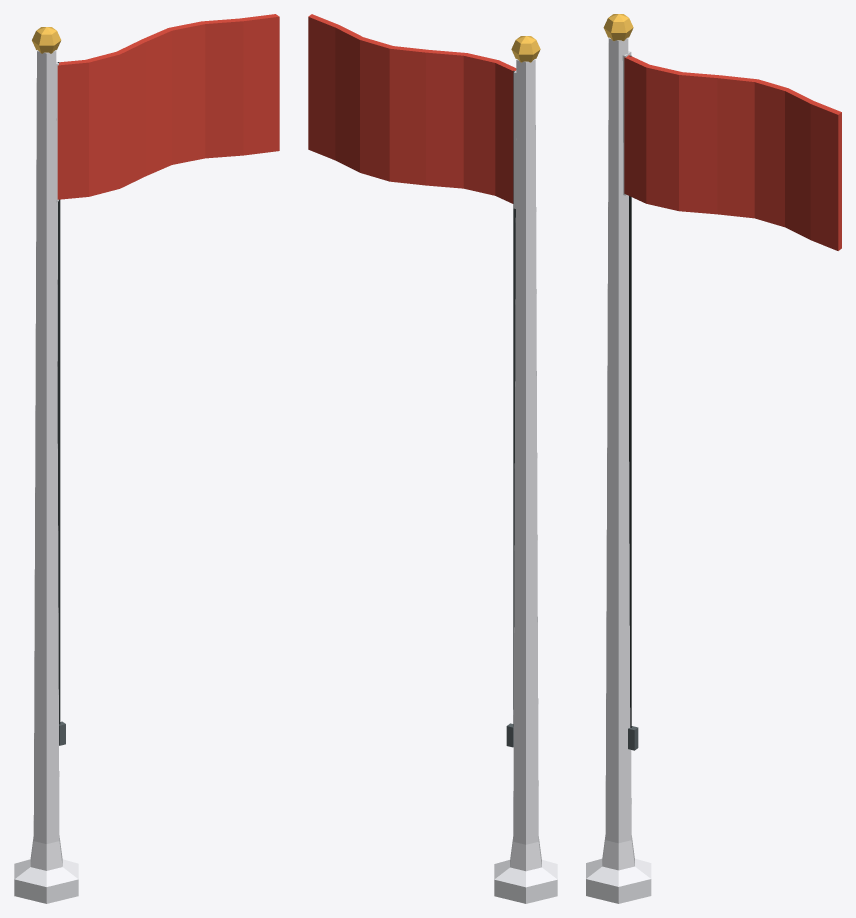
The model's file is flagPole.glb.
3 views of the same model, side by side, from view 1: azimuth 30°, elevation 25°; view 2: azimuth 150°, elevation 25°; view 3: azimuth 330°, elevation 25° (orthographic). The views are drawn at different scales.
Visible parts, largest first — view 1: wave-m, flagPole-m; view 2: wave-m, flagPole-m; view 3: wave-m, flagPole-m.
Part boxes in pixels (box(x1,y1,x2,y2)): wave-m: box(56, 14, 279, 201); flagPole-m: box(14, 27, 78, 903); wave-m: box(308, 14, 516, 208); flagPole-m: box(494, 36, 557, 903); wave-m: box(622, 51, 841, 250); flagPole-m: box(586, 14, 651, 903).
Size of the model in its own units: 1.6 by 5.13 by 0.3464.
